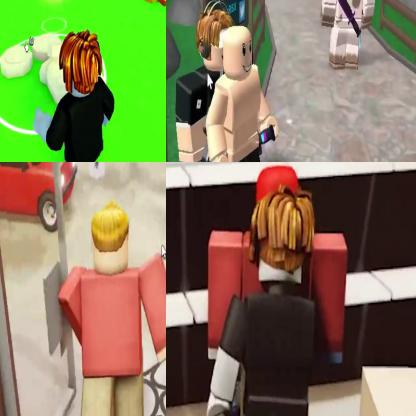Roblox-Avatar: (207, 183, 316, 416), (59, 201, 166, 416), (34, 29, 116, 162), (206, 26, 280, 162), (321, 1, 377, 71)
